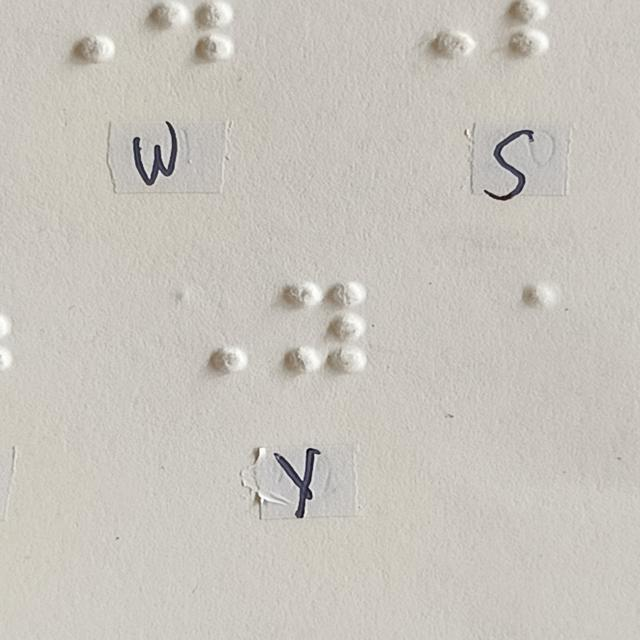Y: (285, 281, 365, 375)
capital: (167, 282, 247, 376)
